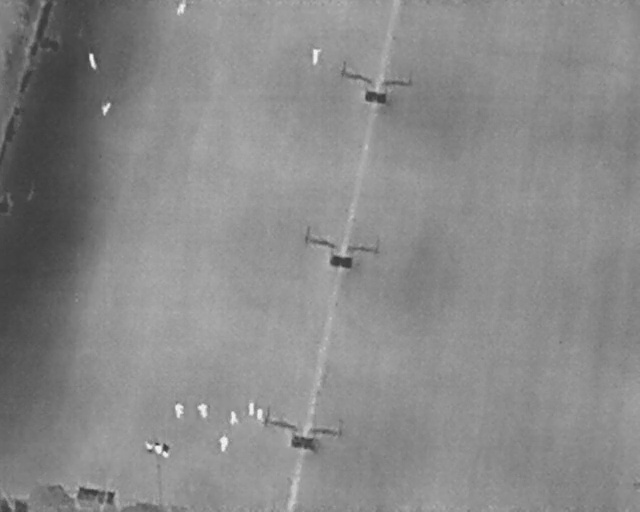Person: (197, 402, 209, 419), (311, 48, 322, 66), (218, 434, 229, 452), (87, 52, 96, 70), (174, 402, 184, 418), (229, 410, 239, 426), (176, 1, 186, 16), (102, 103, 111, 117), (248, 400, 255, 416), (257, 408, 264, 421)
